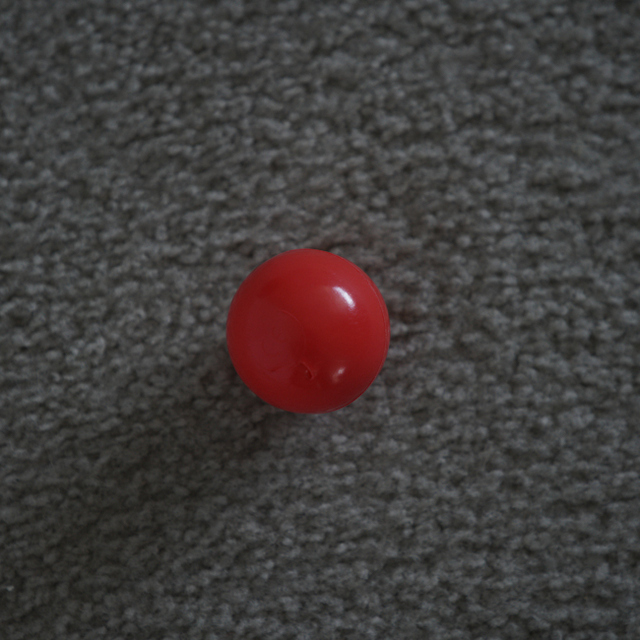Ball: (224, 252, 387, 412)
